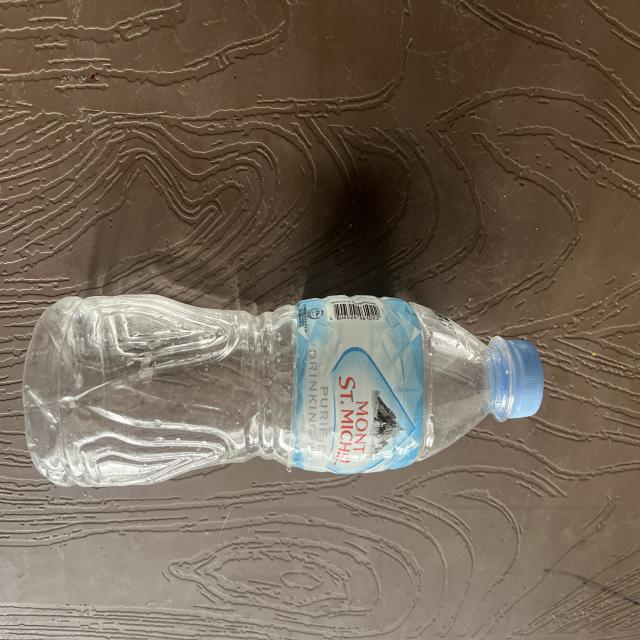REJECT: (58, 282, 537, 604)
